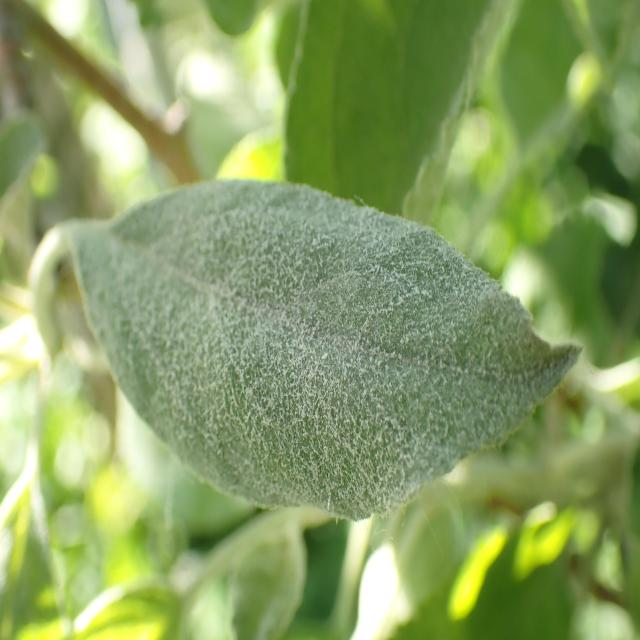Powdery_mildew: (58, 176, 597, 532)
